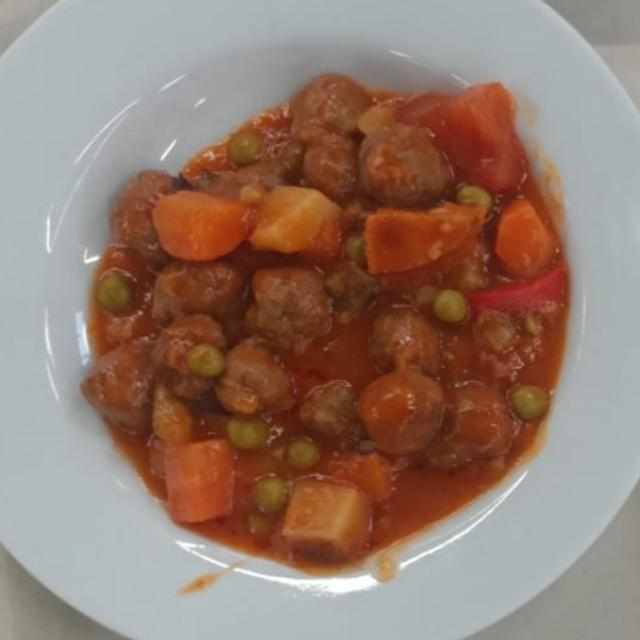ana_yemek: (78, 70, 571, 570)
